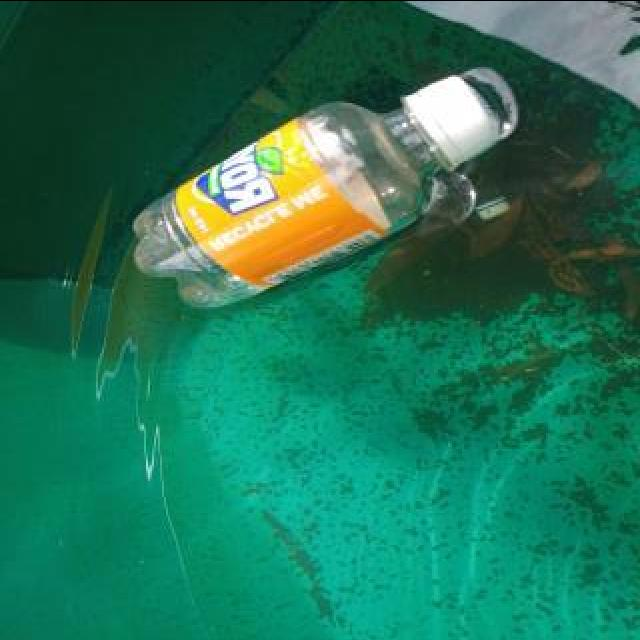Bottle: (120, 60, 512, 322)
